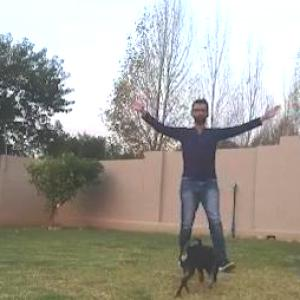takeoff: (137, 80, 299, 290)
